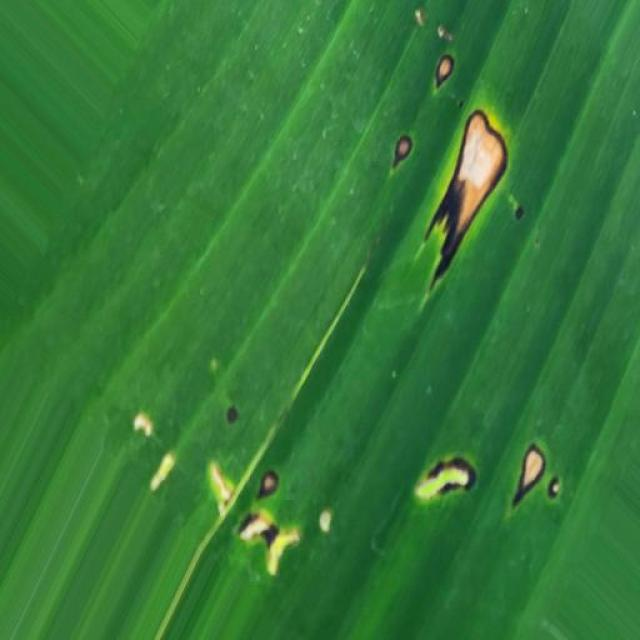Early_rust: (139, 375, 589, 572), (369, 39, 536, 293)
